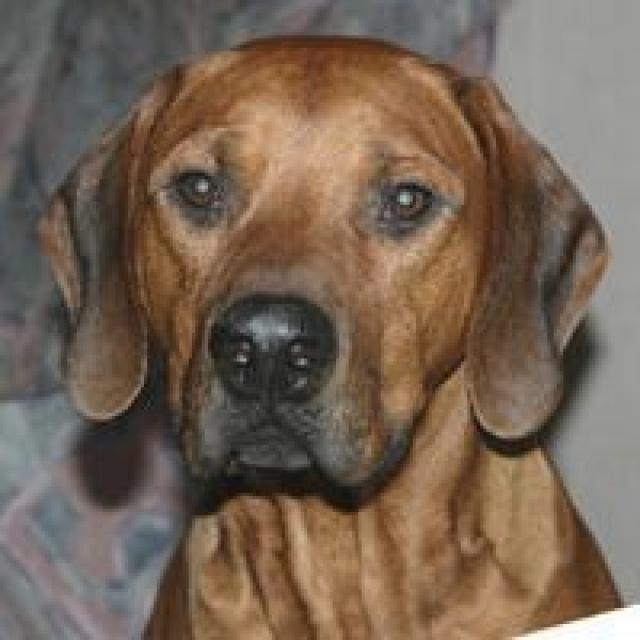rhodesian_ridgeback: (25, 23, 620, 636)
